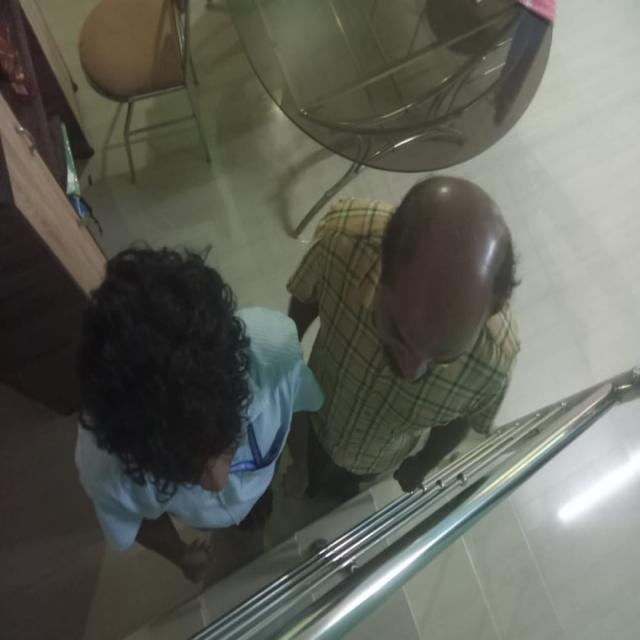humans: (59, 235, 330, 573), (285, 160, 514, 493)
